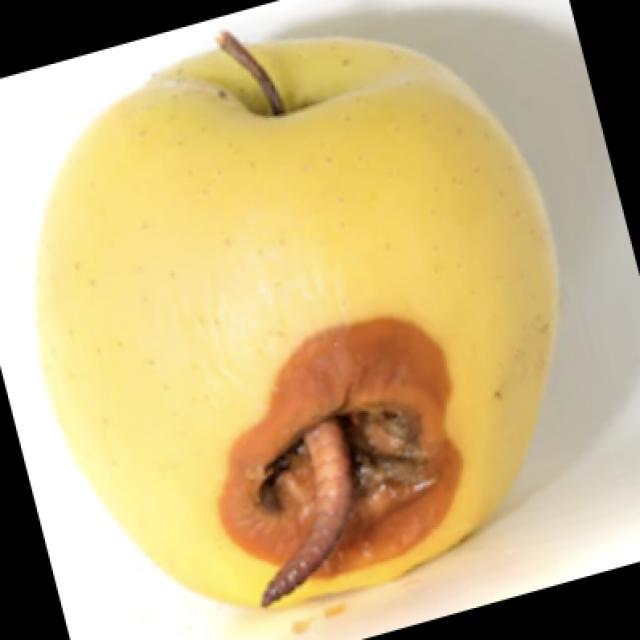Rotten: (61, 35, 546, 600)
